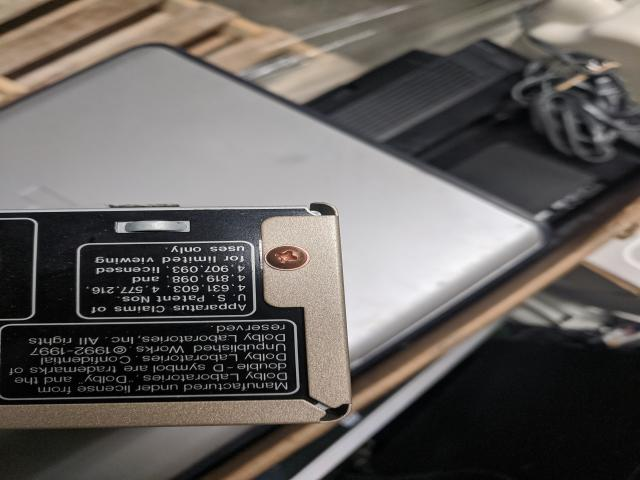CRS: (266, 245, 307, 270)
